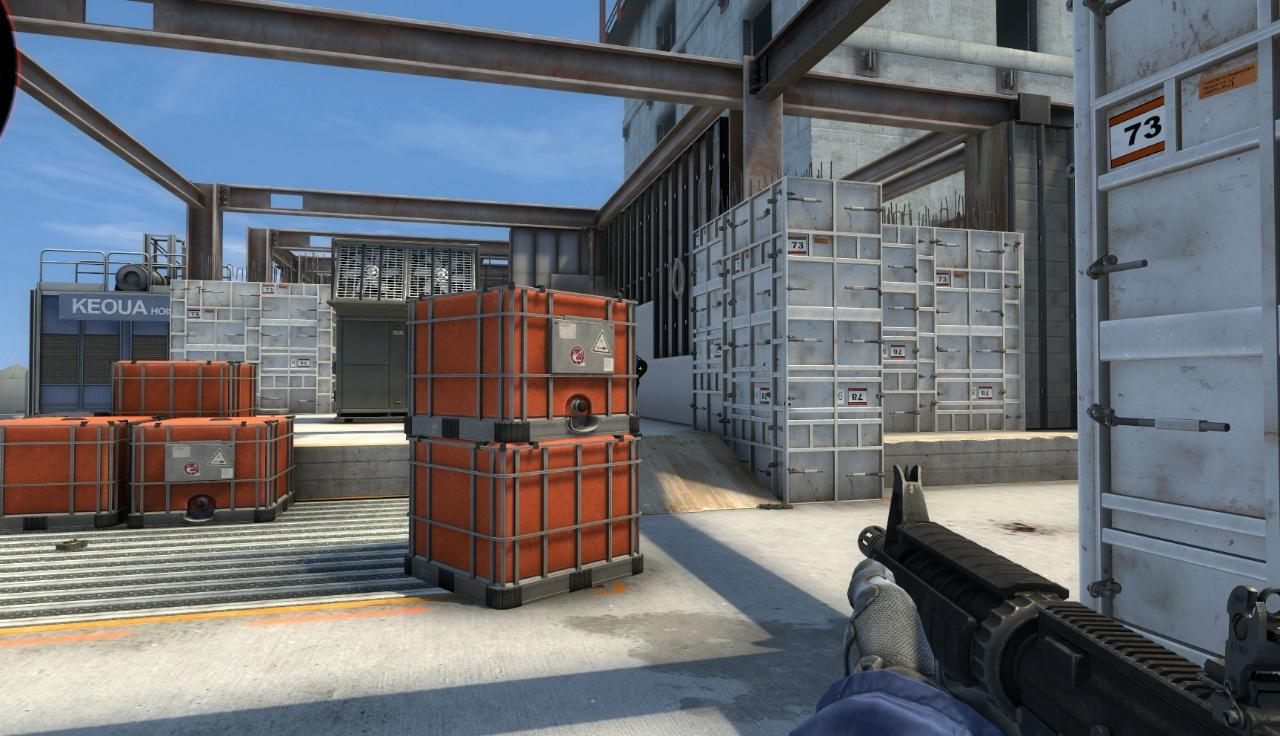rifle: (862, 464, 1280, 736)
